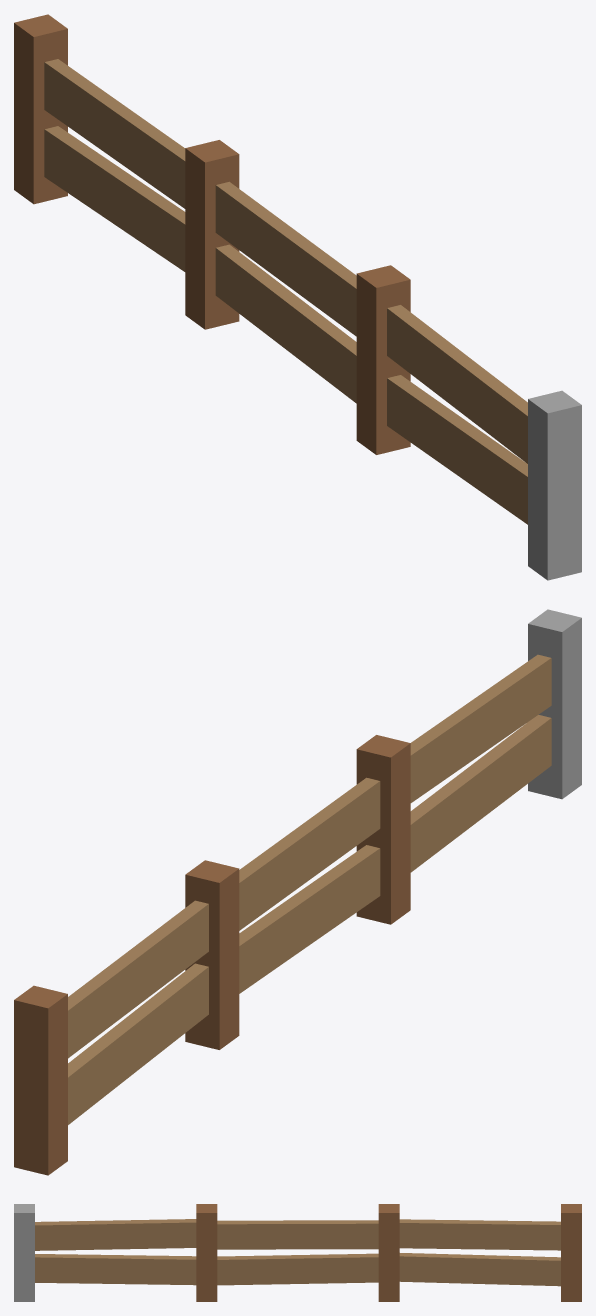
File: Fence_02.fbx
3 views of the same model, one above another, from view 1: azimuth 30°, elevation 25°; view 2: azimuth 150°, elevation 25°; view 3: azimuth 270°, elevation 25° (orthographic). The views are drawn at different scales.
Visible parts, largest first — view 1: pCube96, pCube90, pCube97, pCube88, pCube91, pCube92, pCube98, pCube94, pCube87, pCube93; view 2: pCube93, pCube98, pCube92, pCube91, pCube88, pCube97, pCube90, pCube94, pCube87, pCube96; view 3: pCube88, pCube91, pCube97, pCube90, pCube92, pCube98, pCube94, pCube87, pCube96, pCube93.
Part boxes in pixels (<box>): pCube96: <box>528,390,581,580</box>; pCube90: <box>215,244,356,403</box>; pCube97: <box>387,305,527,463</box>; pCube88: <box>215,181,356,336</box>; pCube91: <box>44,59,185,208</box>; pCube92: <box>44,126,185,271</box>; pCube98: <box>387,375,527,524</box>; pCube94: <box>356,265,410,454</box>; pCube87: <box>185,140,239,329</box>; pCube93: <box>14,14,67,204</box>; pCube93: <box>14,985,67,1175</box>; pCube98: <box>410,715,551,872</box>; pCube92: <box>68,963,208,1124</box>; pCube91: <box>68,900,208,1058</box>; pCube88: <box>239,777,380,930</box>; pCube97: <box>410,654,551,802</box>; pCube90: <box>239,845,380,993</box>; pCube94: <box>356,735,410,924</box>; pCube87: <box>185,860,239,1049</box>; pCube96: <box>528,609,581,799</box>; pCube88: <box>217,1220,378,1249</box>; pCube91: <box>399,1219,560,1250</box>; pCube97: <box>35,1219,196,1250</box>; pCube90: <box>217,1253,378,1285</box>; pCube92: <box>399,1253,560,1286</box>; pCube98: <box>35,1254,196,1285</box>; pCube94: <box>196,1204,217,1301</box>; pCube87: <box>378,1204,399,1301</box>; pCube96: <box>14,1204,34,1301</box>; pCube93: <box>561,1204,581,1301</box>.
Bounding box in the file's own units: 0.75 × 3.5 × 20.25.
